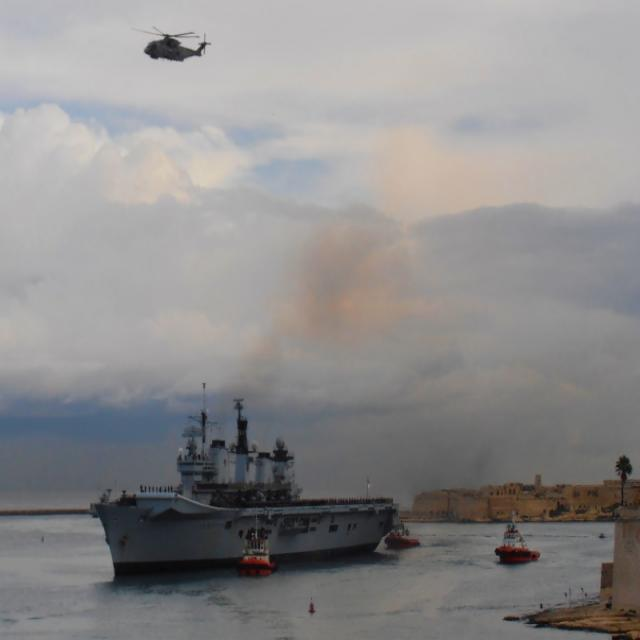Portanaves: (94, 372, 403, 594)
